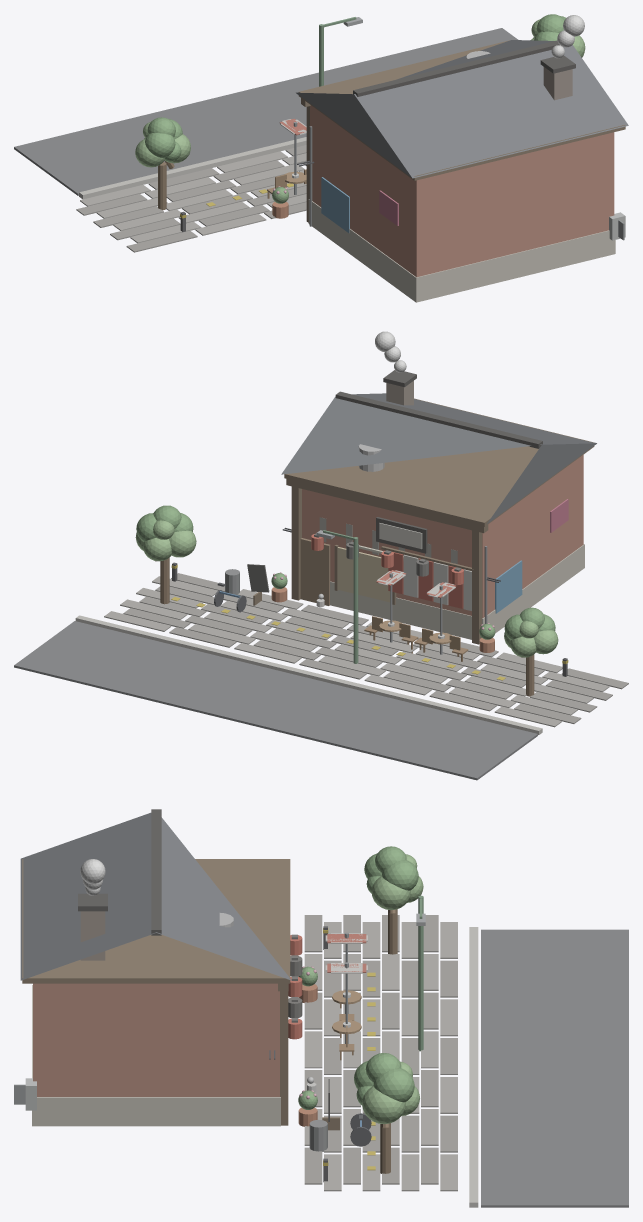
The model's file is ramen_12.glb.
3 renders of one model, top to bottom at view 1: azimuth 30°, elevation 25°; view 2: azimuth 150°, elevation 25°; view 3: azimuth 270°, elevation 25°, orthographic. The views are drawn at different scales.
Parts seen in each view (by area): view 1: geometry_0; view 2: geometry_0; view 3: geometry_0.
Boxes of the visible parts, x1=… form: geometry_0: x1=14, y1=14, x2=628, y2=302; geometry_0: x1=14, y1=331, x2=628, y2=780; geometry_0: x1=14, y1=809, x2=628, y2=1207.
Bounding box in the file's own units: 19.25 × 8.06 × 17.44.
